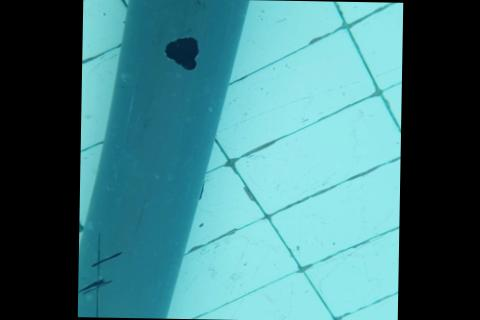kebocoran: (163, 34, 200, 71)
keretakan: (77, 232, 118, 318)
